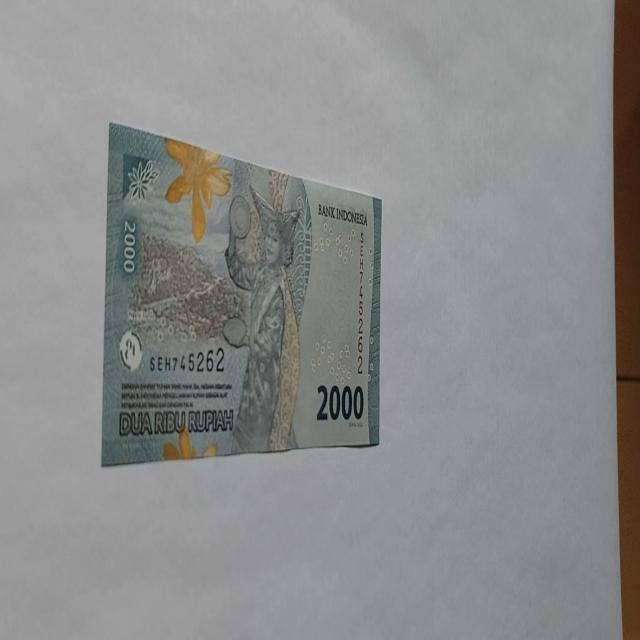dua ribu rupiah: (100, 122, 382, 465), (222, 183, 302, 453), (163, 135, 233, 244)
